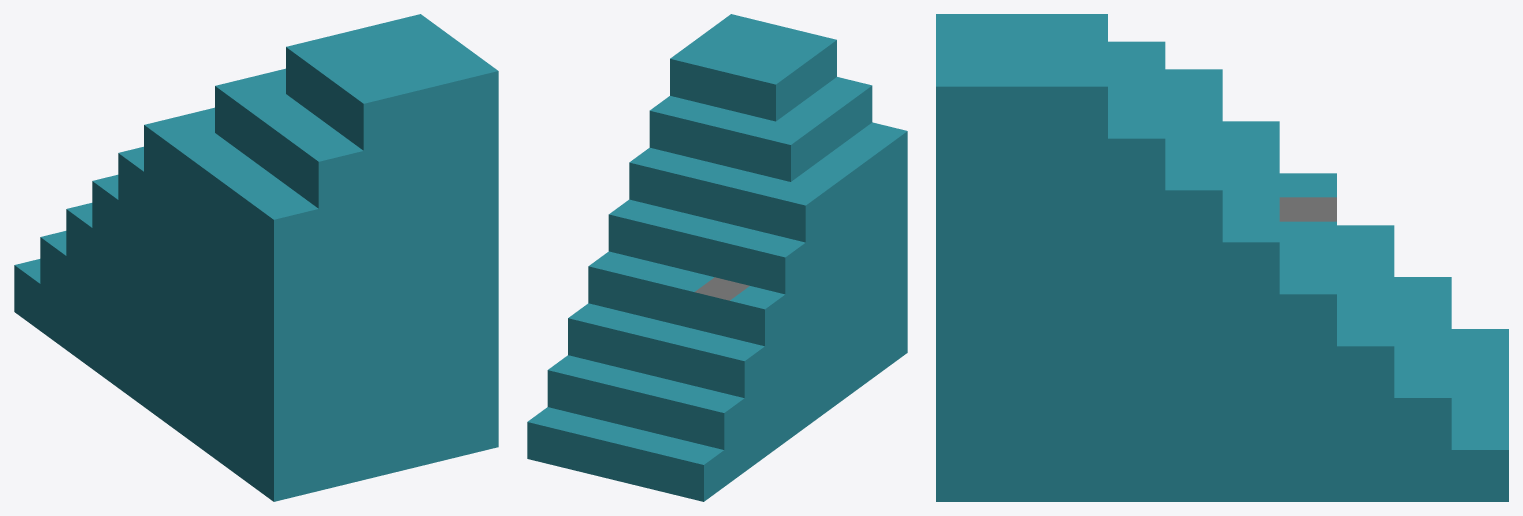
The model's file is Terr_Test_Mats2.fbx.
3 views of the same model, side by side, from view 1: azimuth 30°, elevation 25°; view 2: azimuth 150°, elevation 25°; view 3: azimuth 270°, elevation 25° (orthographic). The views are drawn at different scales.
Parts seen in each view (by area): view 1: Cube_0_1; view 2: Cube_0_1; view 3: Cube_0_1.
Part boxes in pixels (x1=…): Cube_0_1: x1=14, y1=14, x2=498, y2=501; Cube_0_1: x1=527, y1=14, x2=907, y2=501; Cube_0_1: x1=936, y1=14, x2=1508, y2=501.
Bounding box in the file's own units: 100 × 160 × 200.
